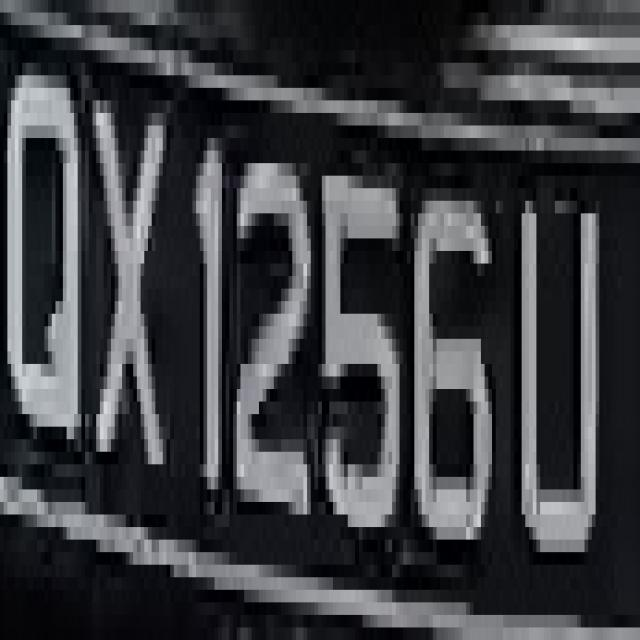1: (189, 100, 229, 527)
2: (233, 100, 318, 552)
5: (314, 126, 410, 552)
6: (414, 150, 500, 590)
Q: (3, 38, 88, 464)
U: (503, 176, 611, 564)
X: (78, 75, 170, 502)
